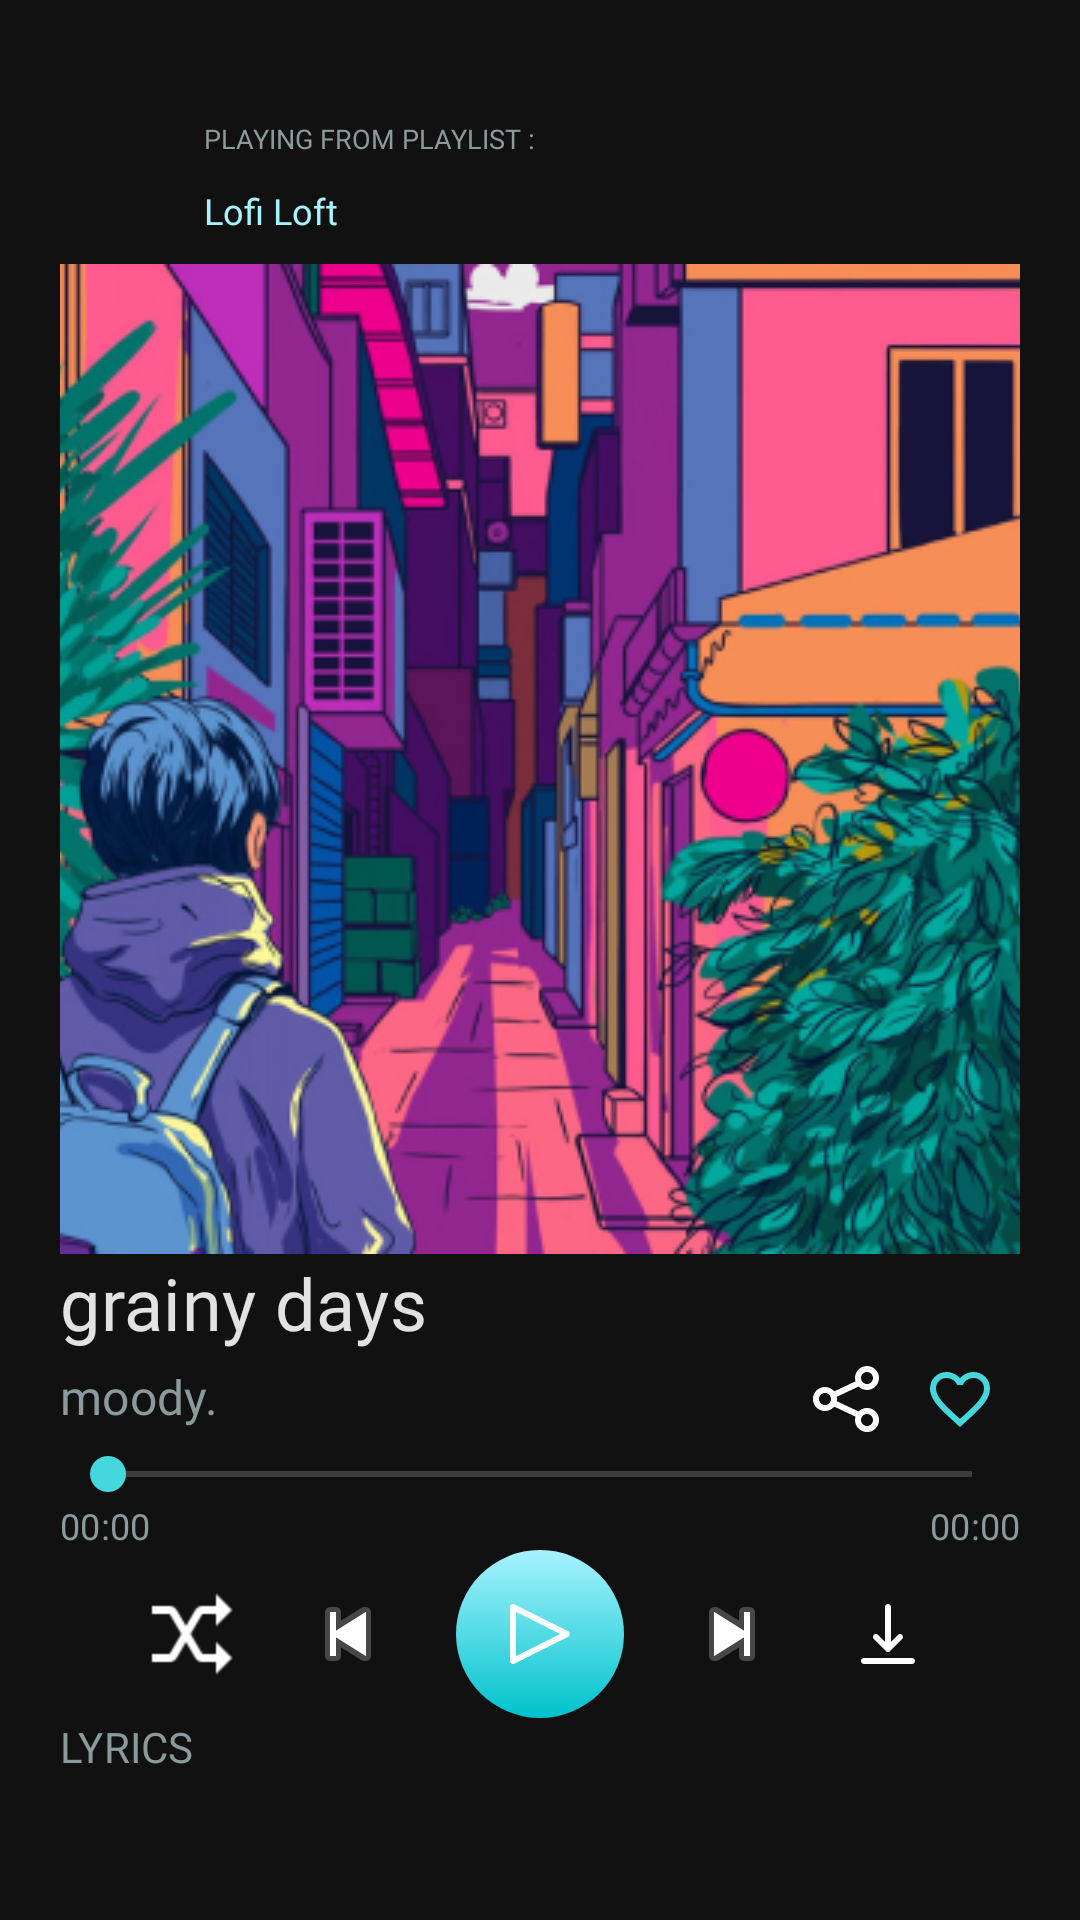

Icons on this 1080 × 1920 Android screen, each with the point to tap as (x,y):
download: (888,1634)
next: (732,1634)
previous: (348,1634)
share: (846,1399)
shuffle: (192,1634)
triangle: (540,1634)
